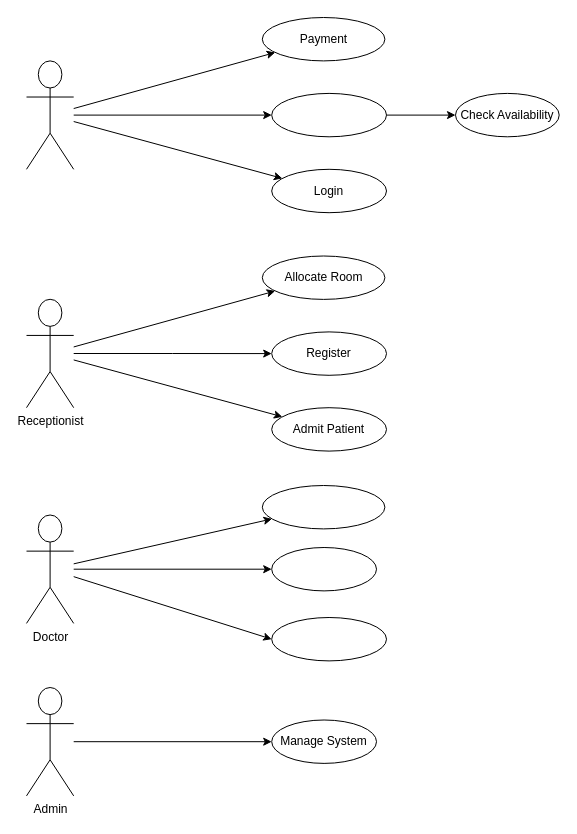
Some shapes in this 577 by 834 pixel diagram are drawn without their labels. The centre of each missing label's shape, as x and y in pixels:
Book Appointment: point (328, 114)
Consult Patient: point (323, 568)
Patient: point (50, 114)
Prescription: point (323, 506)
View Appoinments: point (328, 638)
